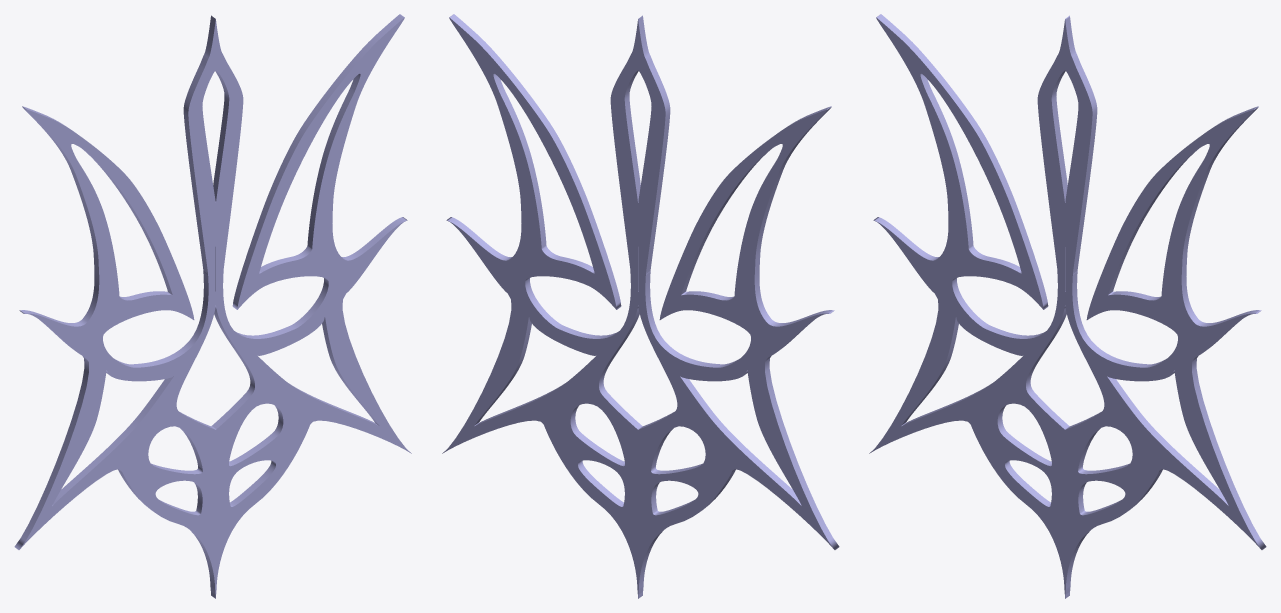
File: trial.gltf
The picture shows the model from 3 angles, left to right: view 1: azimuth 30°, elevation 25°; view 2: azimuth 150°, elevation 25°; view 3: azimuth 330°, elevation 25°; orthographic projection.
Parts seen in each view (by area): view 1: Curve; view 2: Curve; view 3: Curve.
Boxes of the visible parts, <box> form: Curve: <box>14,14,411,598</box>; Curve: <box>442,14,839,598</box>; Curve: <box>869,14,1266,598</box>.
Bounding box in the file's own units: 0.2331 × 0.3282 × 0.00487.
